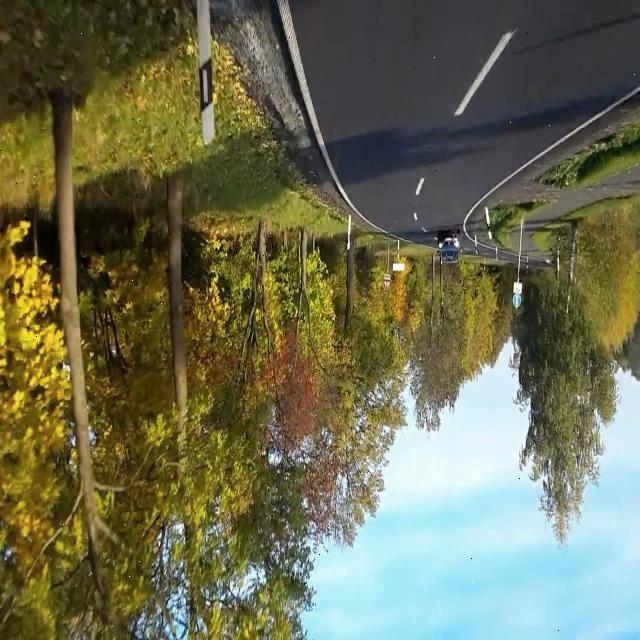lane: (462, 87, 640, 234), (276, 1, 368, 221), (455, 31, 515, 116)
road: (290, 1, 640, 244)
